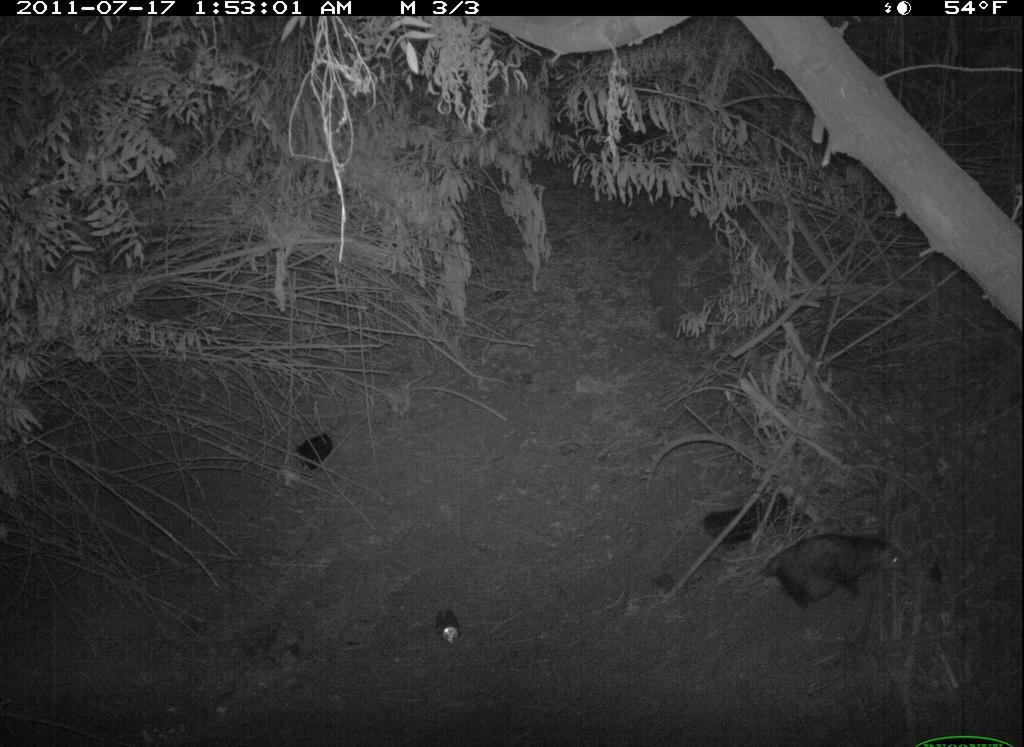opossum: (716, 517, 921, 624)
